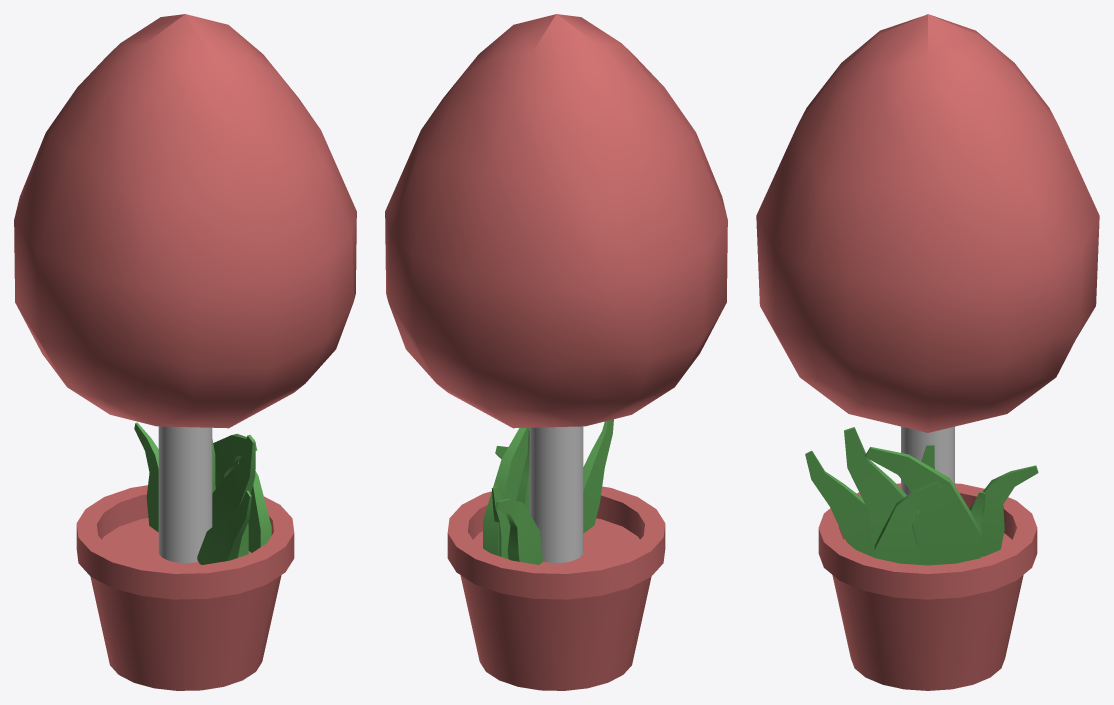
The model's file is Inside_Tree_S.fbx.
3 views of the same model, side by side, from view 1: azimuth 30°, elevation 25°; view 2: azimuth 150°, elevation 25°; view 3: azimuth 270°, elevation 25° (orthographic).
Parts seen in each view (by area): view 1: Leafes, Inside_Tree_1, Stump, Würfel_3, Würfel_1, Würfel_5, Würfel_7, Würfel_2; view 2: Leafes, Inside_Tree_1, Stump, Würfel_2, Würfel_7, Würfel_1, Würfel_6; view 3: Leafes, Inside_Tree_1, Würfel_2, Würfel_3, Würfel_1, Würfel_5, Würfel_7, Stump.
Part boxes in pixels (left/top/right/bottom): Leafes: left=14, top=14, right=356, bottom=428; Inside_Tree_1: left=76, top=485, right=294, bottom=690; Stump: left=158, top=426, right=212, bottom=562; Würfel_3: left=212, top=434, right=255, bottom=557; Würfel_1: left=197, top=490, right=251, bottom=564; Würfel_5: left=239, top=461, right=271, bottom=552; Würfel_7: left=134, top=422, right=158, bottom=532; Würfel_2: left=213, top=434, right=257, bottom=488; Leafes: left=385, top=14, right=727, bottom=428; Inside_Tree_1: left=447, top=486, right=665, bottom=690; Stump: left=529, top=426, right=583, bottom=562; Würfel_2: left=483, top=427, right=529, bottom=555; Würfel_7: left=495, top=498, right=543, bottom=564; Würfel_1: left=583, top=419, right=613, bottom=533; Würfel_6: left=491, top=486, right=510, bottom=558; Leafes: left=756, top=14, right=1099, bottom=432; Inside_Tree_1: left=818, top=483, right=1037, bottom=690; Würfel_2: left=865, top=447, right=981, bottom=565; Würfel_3: left=844, top=427, right=919, bottom=564; Würfel_1: left=805, top=451, right=870, bottom=555; Würfel_5: left=874, top=481, right=940, bottom=564; Würfel_7: left=969, top=465, right=1038, bottom=556; Stump: left=901, top=426, right=954, bottom=495.
Size of the model in its own units: 200 by 414 by 200.
